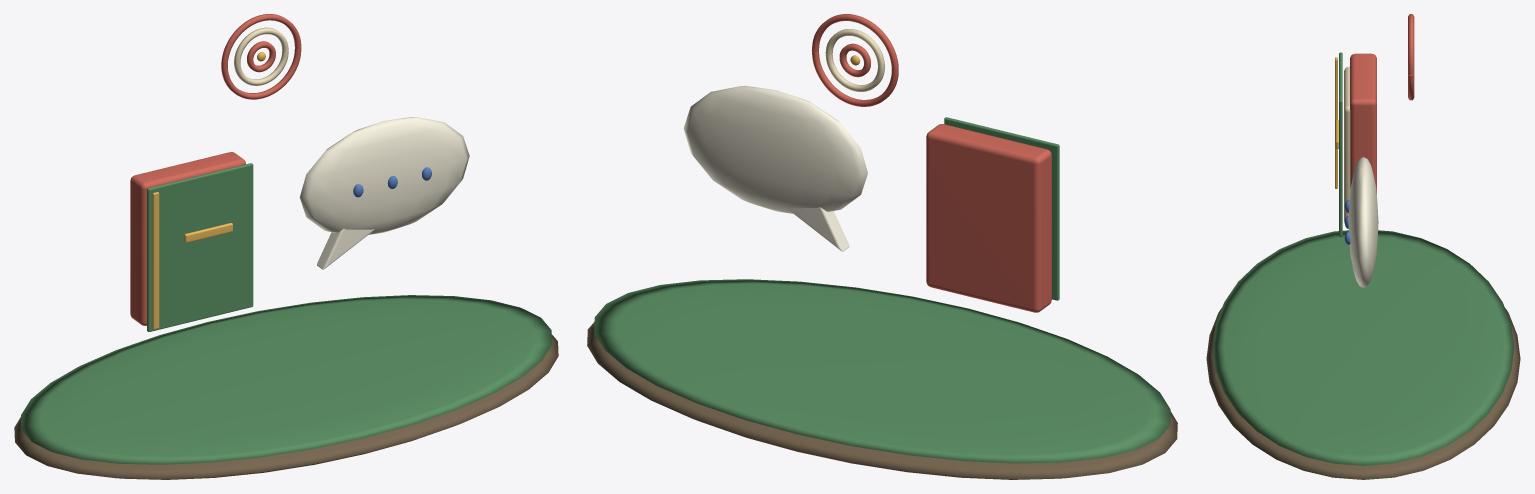
File: complete-third-planned-old-tale.glb
3 renders of one model, left to right at view 1: azimuth 30°, elevation 25°; view 2: azimuth 150°, elevation 25°; view 3: azimuth 270°, elevation 25°, orthographic. The views are drawn at different scales.
Parts seen in each view (by area): view 1: complete-third-planned-old-tale_surface_01, complete-third-planned-old-tale_surface_05, complete-third-planned-old-tale_surface_00, complete-third-planned-old-tale_surface_02, complete-third-planned-old-tale_surface_04, complete-third-planned-old-tale_surface_03; view 2: complete-third-planned-old-tale_surface_01, complete-third-planned-old-tale_surface_02, complete-third-planned-old-tale_surface_05, complete-third-planned-old-tale_surface_00, complete-third-planned-old-tale_surface_03; view 3: complete-third-planned-old-tale_surface_01, complete-third-planned-old-tale_surface_00, complete-third-planned-old-tale_surface_02, complete-third-planned-old-tale_surface_05, complete-third-planned-old-tale_surface_03, complete-third-planned-old-tale_surface_04.
Part boxes in pixels (bbox=[...]): complete-third-planned-old-tale_surface_01: bbox=[21, 163, 551, 464]; complete-third-planned-old-tale_surface_05: bbox=[299, 117, 469, 269]; complete-third-planned-old-tale_surface_00: bbox=[14, 335, 558, 479]; complete-third-planned-old-tale_surface_02: bbox=[130, 14, 301, 325]; complete-third-planned-old-tale_surface_04: bbox=[152, 52, 265, 329]; complete-third-planned-old-tale_surface_03: bbox=[234, 27, 288, 85]; complete-third-planned-old-tale_surface_01: bbox=[594, 117, 1170, 463]; complete-third-planned-old-tale_surface_02: bbox=[812, 14, 1051, 312]; complete-third-planned-old-tale_surface_05: bbox=[683, 85, 867, 251]; complete-third-planned-old-tale_surface_00: bbox=[587, 322, 1177, 479]; complete-third-planned-old-tale_surface_03: bbox=[825, 29, 884, 91]; complete-third-planned-old-tale_surface_01: bbox=[1212, 52, 1514, 465]; complete-third-planned-old-tale_surface_00: bbox=[1206, 308, 1520, 479]; complete-third-planned-old-tale_surface_02: bbox=[1350, 14, 1414, 193]; complete-third-planned-old-tale_surface_05: bbox=[1348, 157, 1378, 287]; complete-third-planned-old-tale_surface_03: bbox=[1344, 66, 1350, 222]; complete-third-planned-old-tale_surface_04: bbox=[1335, 57, 1338, 188].
Bounding box in the file's own units: 4.56 × 3.12 × 2.5.
